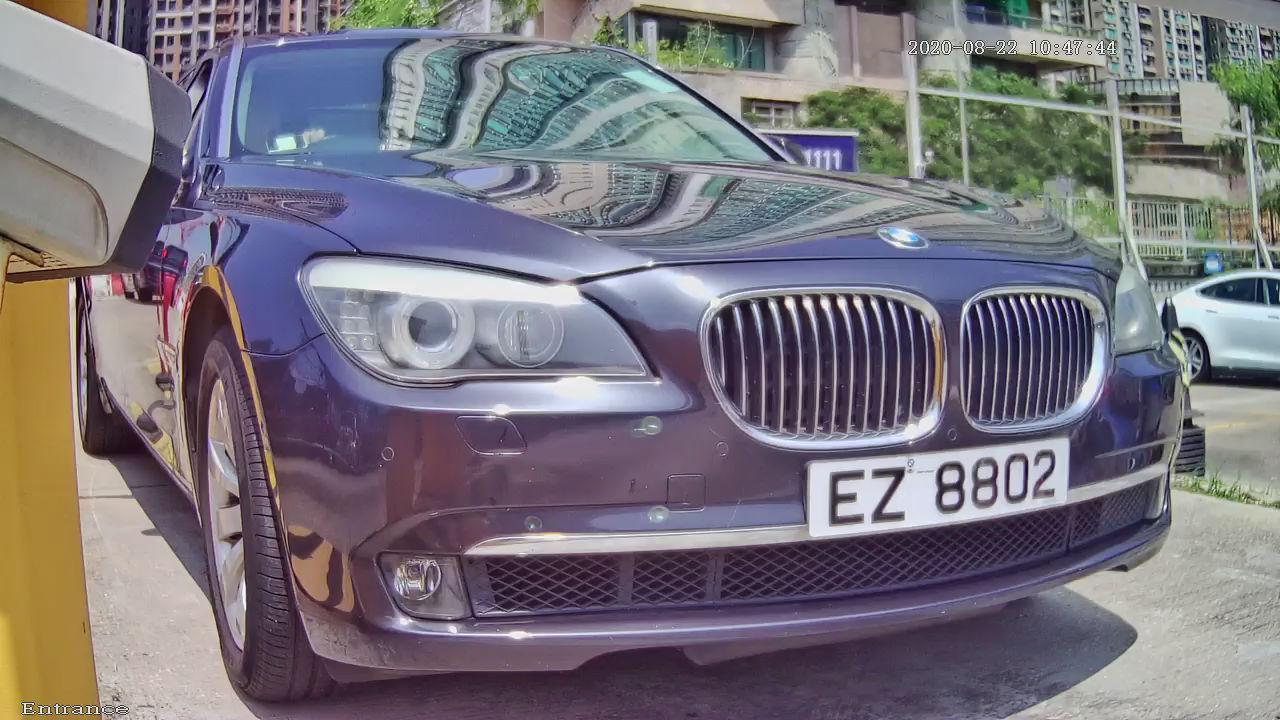Car: (12, 4, 1235, 720)
License Plate: (801, 409, 1081, 541)
